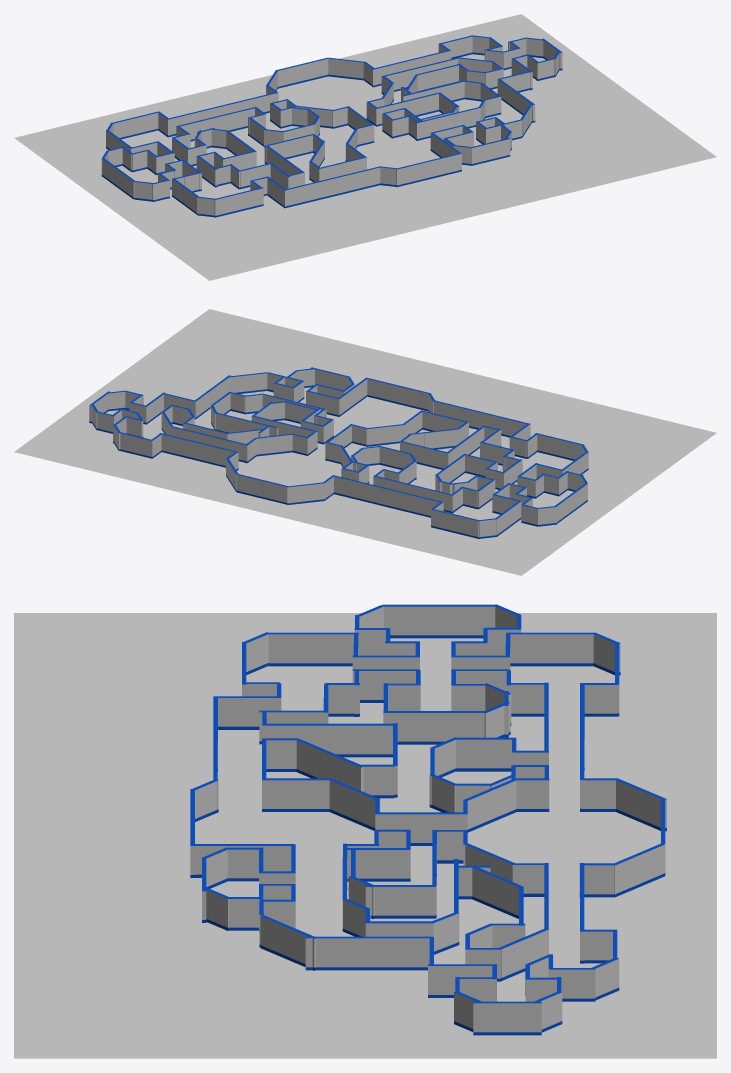
The model's file is map.obj.
The picture shows the model from 3 angles, top to bottom: view 1: azimuth 30°, elevation 25°; view 2: azimuth 150°, elevation 25°; view 3: azimuth 270°, elevation 25°; orthographic projection. The views are drawn at different scales.
Visible parts, largest first — view 1: Plane, Cube_Cube.001; view 2: Plane, Cube_Cube.001; view 3: Plane, Cube_Cube.001.
Boxes of the visible parts, x1,y1,x2,y2 form: Plane: (14,14,716,280); Cube_Cube.001: (101,35,562,217); Plane: (14,309,716,575); Cube_Cube.001: (89,367,588,538); Plane: (14,613,716,1058); Cube_Cube.001: (190,604,666,1035).
Bounding box in the file's own units: 240 × 8.13 × 160.
